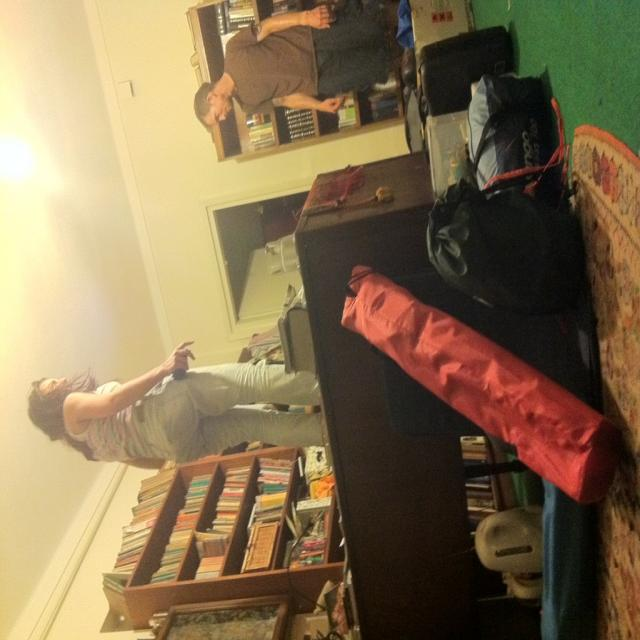desk: (292, 154, 542, 639)
person: (26, 288, 319, 464), (196, 0, 398, 127)
